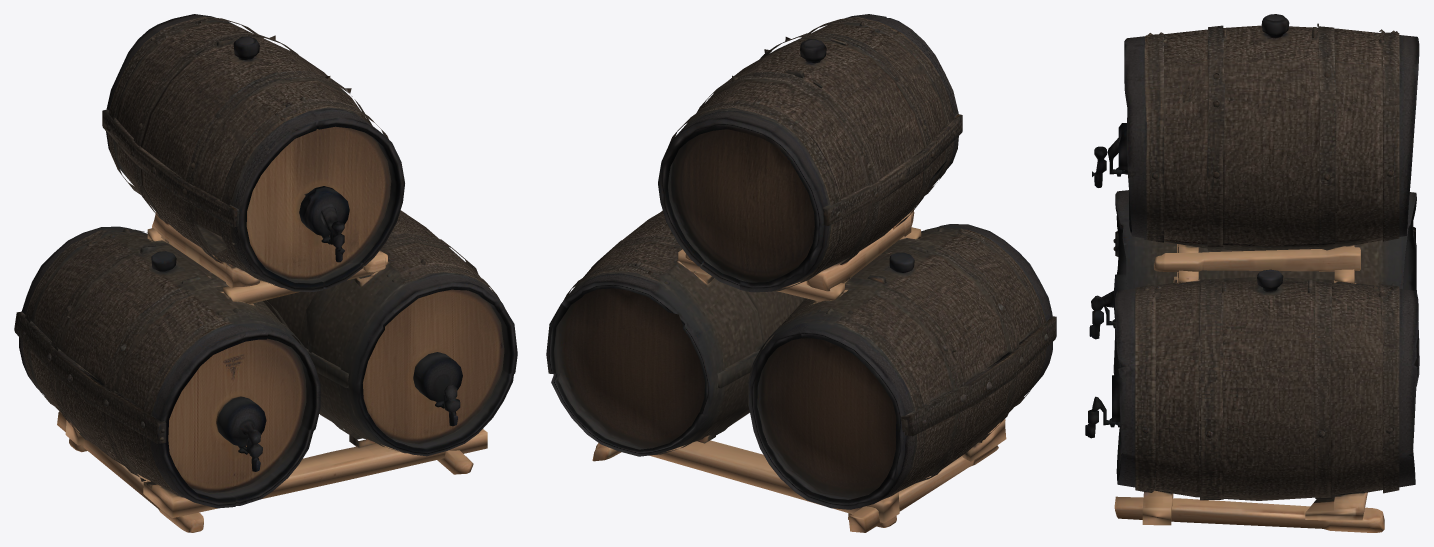
Rendered from botti_rastrelliera.glb.
3 views of the same model, side by side, from view 1: azimuth 30°, elevation 25°; view 2: azimuth 150°, elevation 25°; view 3: azimuth 270°, elevation 25° (orthographic). The views are drawn at different scales.
Visible parts, largest first — view 1: botti_rastrelliera; view 2: botti_rastrelliera; view 3: botti_rastrelliera.
Boxes of the visible parts, bbox=[...] form: botti_rastrelliera: bbox=[14, 14, 517, 532]; botti_rastrelliera: bbox=[546, 14, 1056, 532]; botti_rastrelliera: bbox=[1085, 14, 1419, 532].
Size of the model in its own units: 0.9839 by 0.9995 by 0.7017.
Materials: 1 (1 with a texture image).
